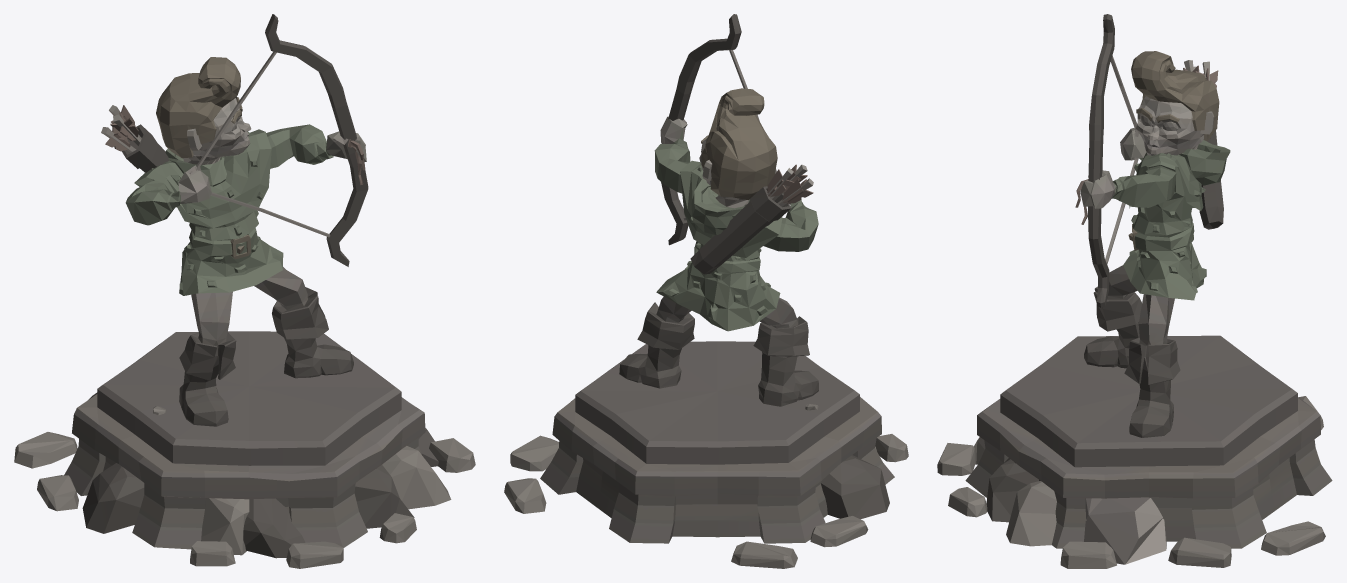
File: tempStoneHero.fbx
The picture shows the model from 3 angles, left to right: view 1: azimuth 30°, elevation 25°; view 2: azimuth 150°, elevation 25°; view 3: azimuth 270°, elevation 25°; orthographic projection. The views are drawn at different scales.
Visible parts, largest first — view 1: tempStoneHero; view 2: tempStoneHero; view 3: tempStoneHero.
Boxes of the visible parts, x1,y1,x2,y2 form: tempStoneHero: (14,14,475,568); tempStoneHero: (504,14,908,568); tempStoneHero: (937,14,1332,568).
Bounding box in the file's own units: 2.61 × 3.31 × 2.51.
